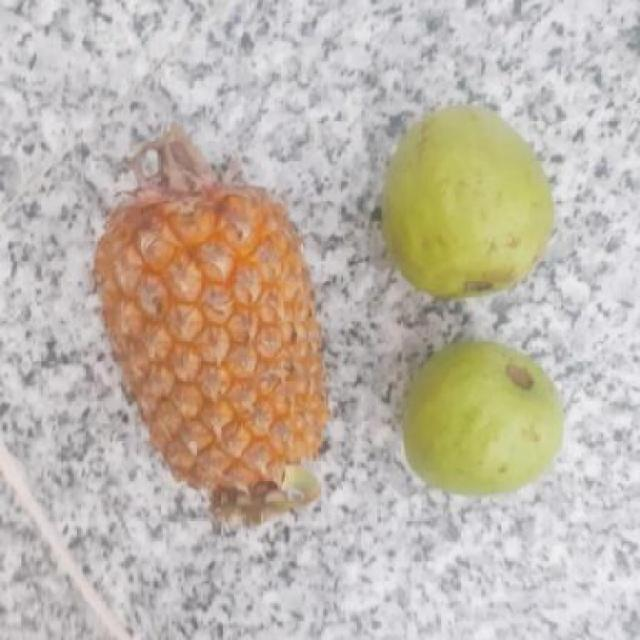guava: (376, 104, 567, 298), (400, 344, 574, 496)
pear: (403, 342, 572, 496)
pineapple: (94, 183, 332, 523)
